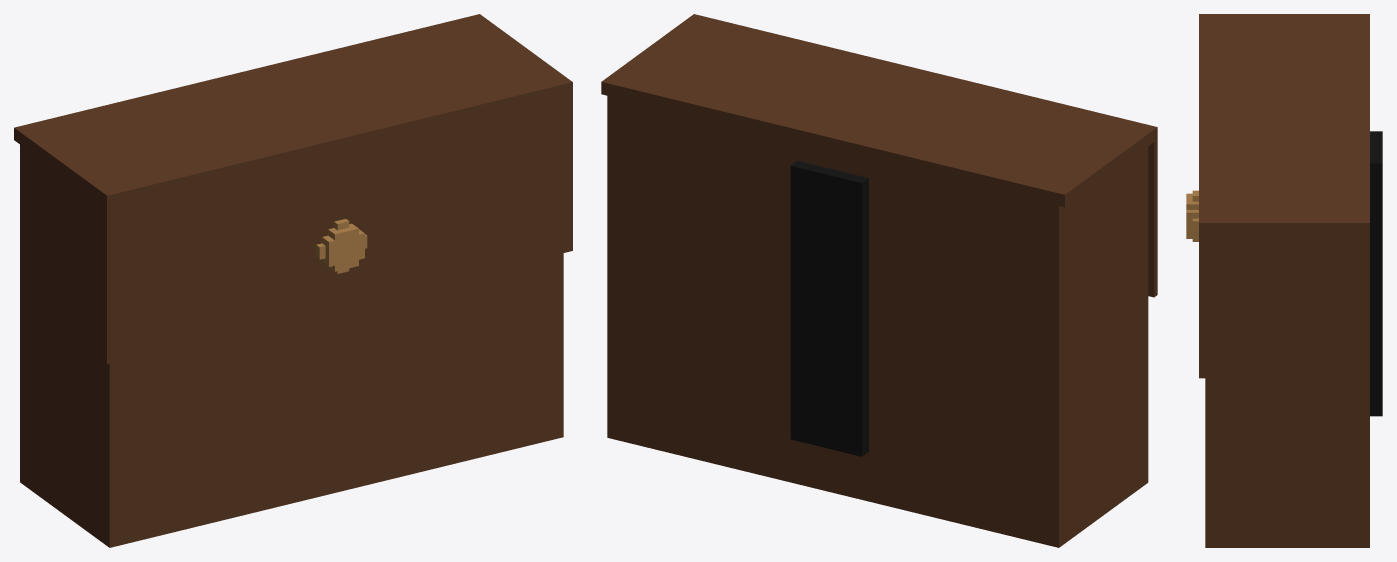
Rendered from ammo_pouch.glb.
3 views of the same model, side by side, from view 1: azimuth 30°, elevation 25°; view 2: azimuth 150°, elevation 25°; view 3: azimuth 270°, elevation 25° (orthographic). The views are drawn at different scales.
Parts seen in each view (by area): view 1: ammo_pouch:compound; view 2: ammo_pouch:compound; view 3: ammo_pouch:compound.
Part boxes in pixels (x1,y1,x2,y2): ammo_pouch:compound: (14, 14, 572, 547); ammo_pouch:compound: (601, 14, 1157, 547); ammo_pouch:compound: (1186, 14, 1382, 547).
Size of the model in its own units: 0.156 by 0.114 by 0.062.
